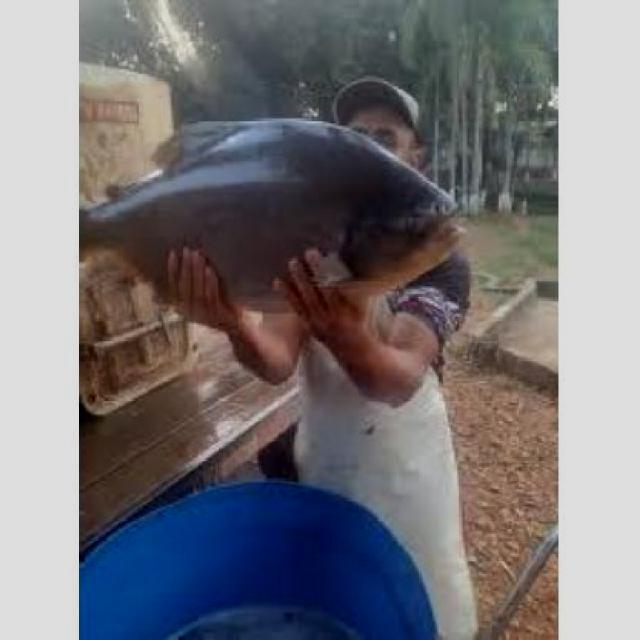ikan-pacu: (81, 116, 466, 316)
